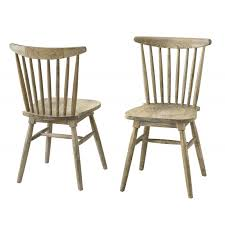tiyarina: (5, 38, 109, 200), (119, 33, 215, 201)
